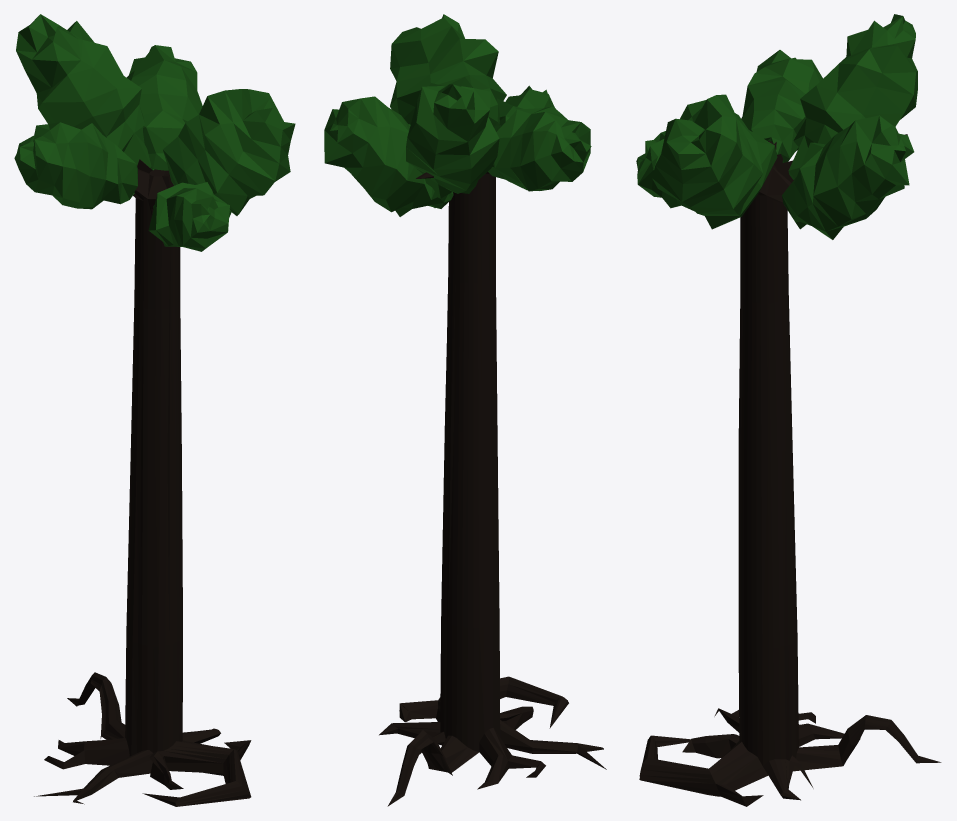
The model's file is kapoktree.dae.
3 views of the same model, side by side, from view 1: azimuth 30°, elevation 25°; view 2: azimuth 150°, elevation 25°; view 3: azimuth 270°, elevation 25° (orthographic). The views are drawn at different scales.
Visible parts, largest first — view 1: TreeStem; view 2: TreeStem; view 3: TreeStem.
Boxes of the visible parts, box(x1,y1,x2,y2) form: TreeStem: box(14, 14, 295, 806); TreeStem: box(324, 14, 606, 806); TreeStem: box(636, 14, 941, 806).
Bounding box in the file's own units: 30.54 × 34.18 × 90.17.
